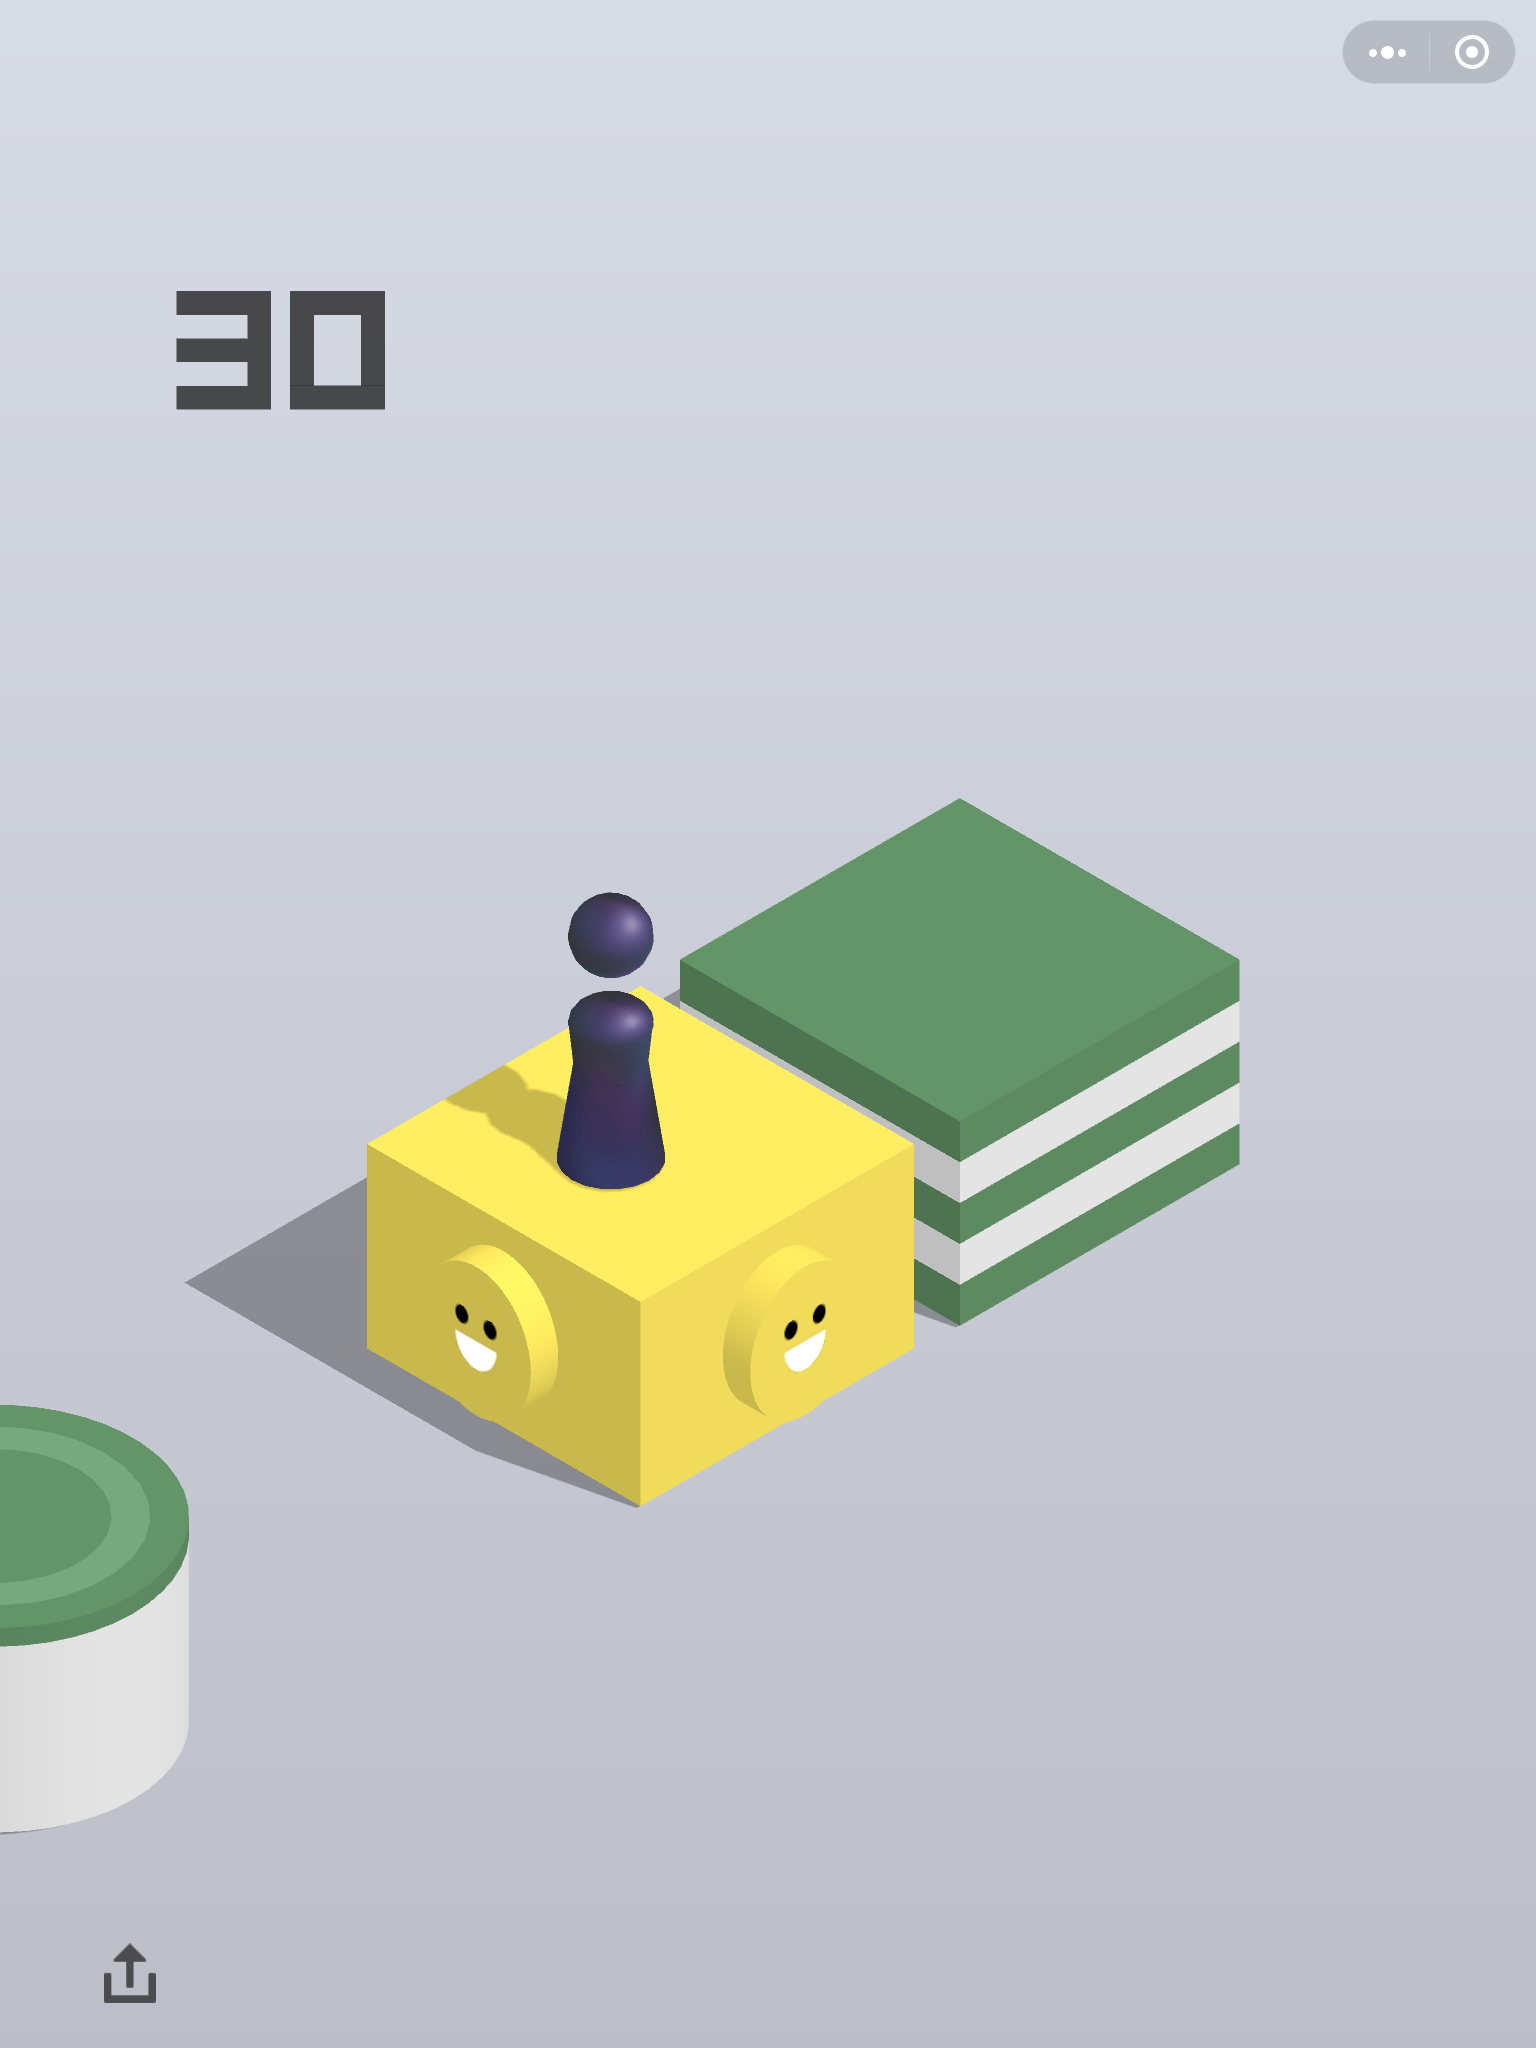c: (2, 1397, 198, 1837)
f: (674, 793, 1249, 1334), (357, 984, 921, 1514)
r: (552, 887, 671, 1197)
